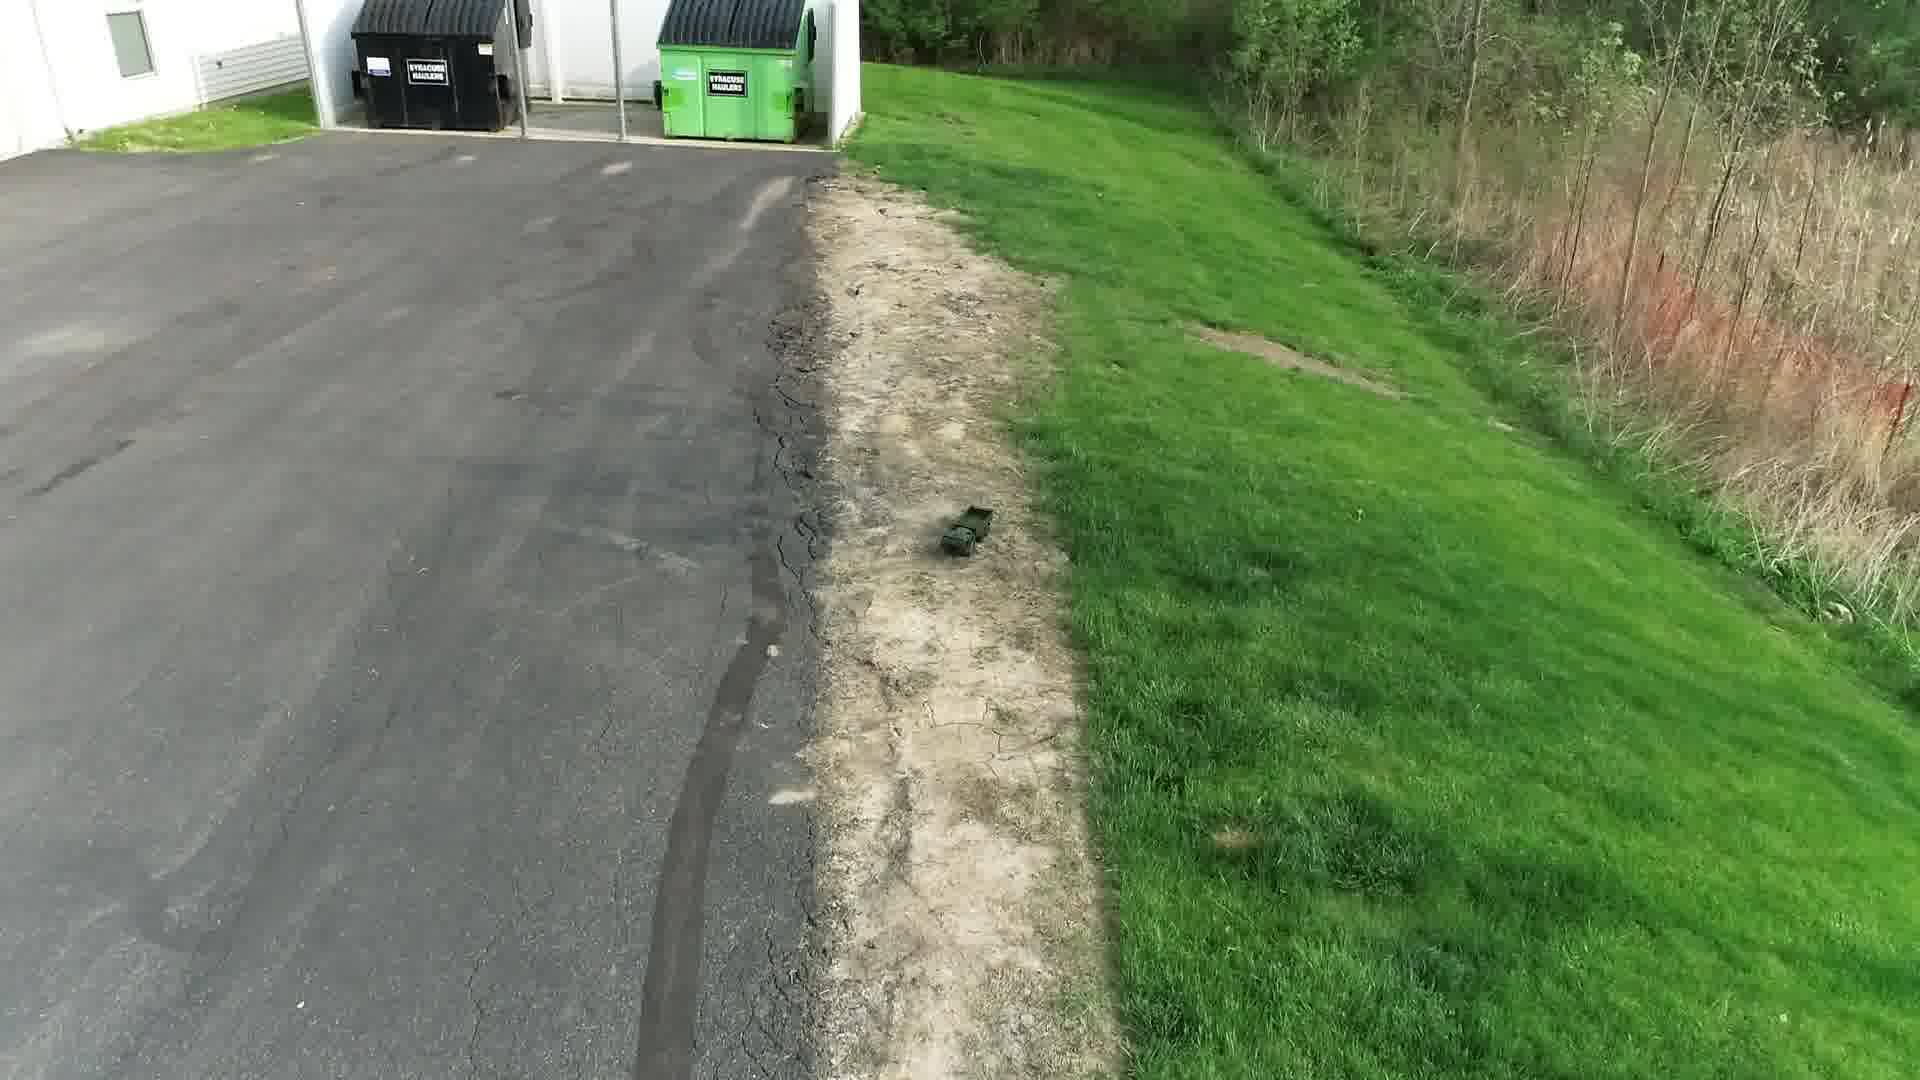transporter9: (935, 502, 997, 560)
